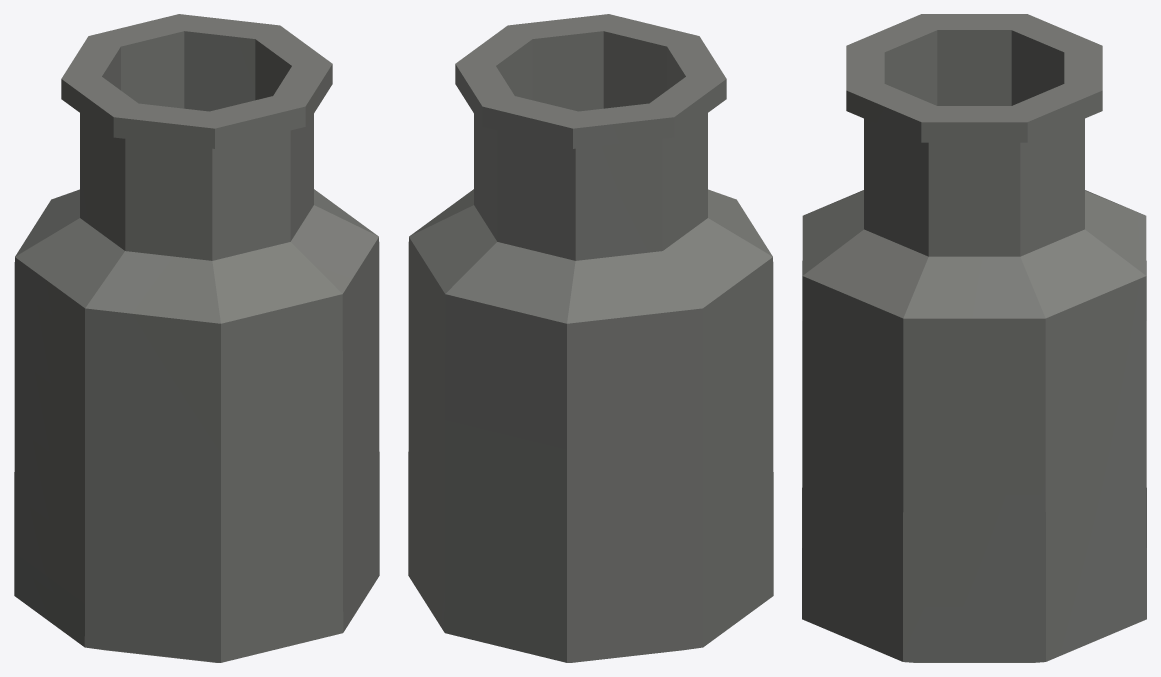
Rendered from kingdom_SM_Item_Billy_01.gltf.
3 views of the same model, side by side, from view 1: azimuth 30°, elevation 25°; view 2: azimuth 150°, elevation 25°; view 3: azimuth 270°, elevation 25° (orthographic).
Visible parts, largest first — view 1: SM_Item_Billy_01; view 2: SM_Item_Billy_01; view 3: SM_Item_Billy_01.
Boxes of the visible parts, x1,y1,x2,y2 form: SM_Item_Billy_01: (14,14,379,662); SM_Item_Billy_01: (408,14,773,662); SM_Item_Billy_01: (802,14,1146,662).
Size of the model in its own units: 0.2239 by 0.383 by 0.2239.
Materials: 1 (1 with a texture image).
